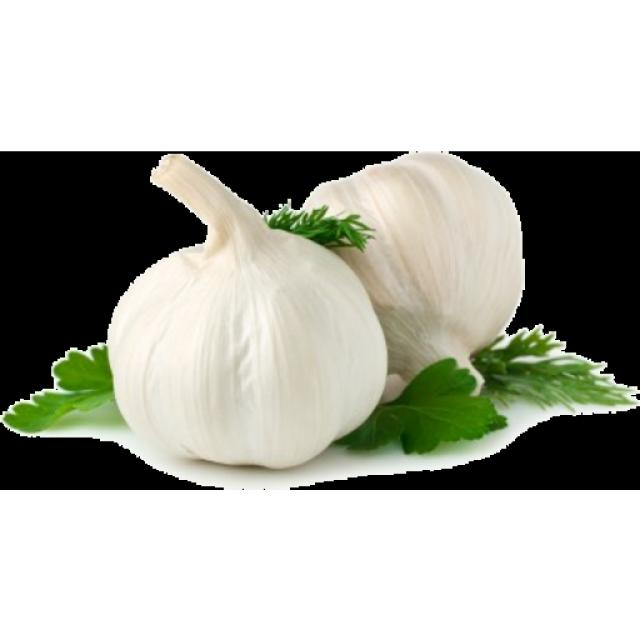garlic: (104, 227, 394, 480)
